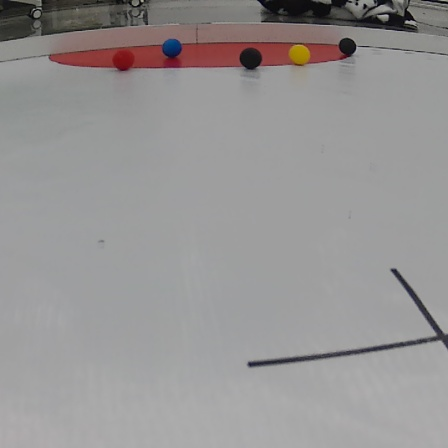black: (240, 46, 263, 68), (336, 37, 358, 55)
blue: (161, 37, 182, 58)
red: (115, 49, 134, 70)
red_base: (47, 36, 367, 70)
yellow: (287, 42, 315, 64)
